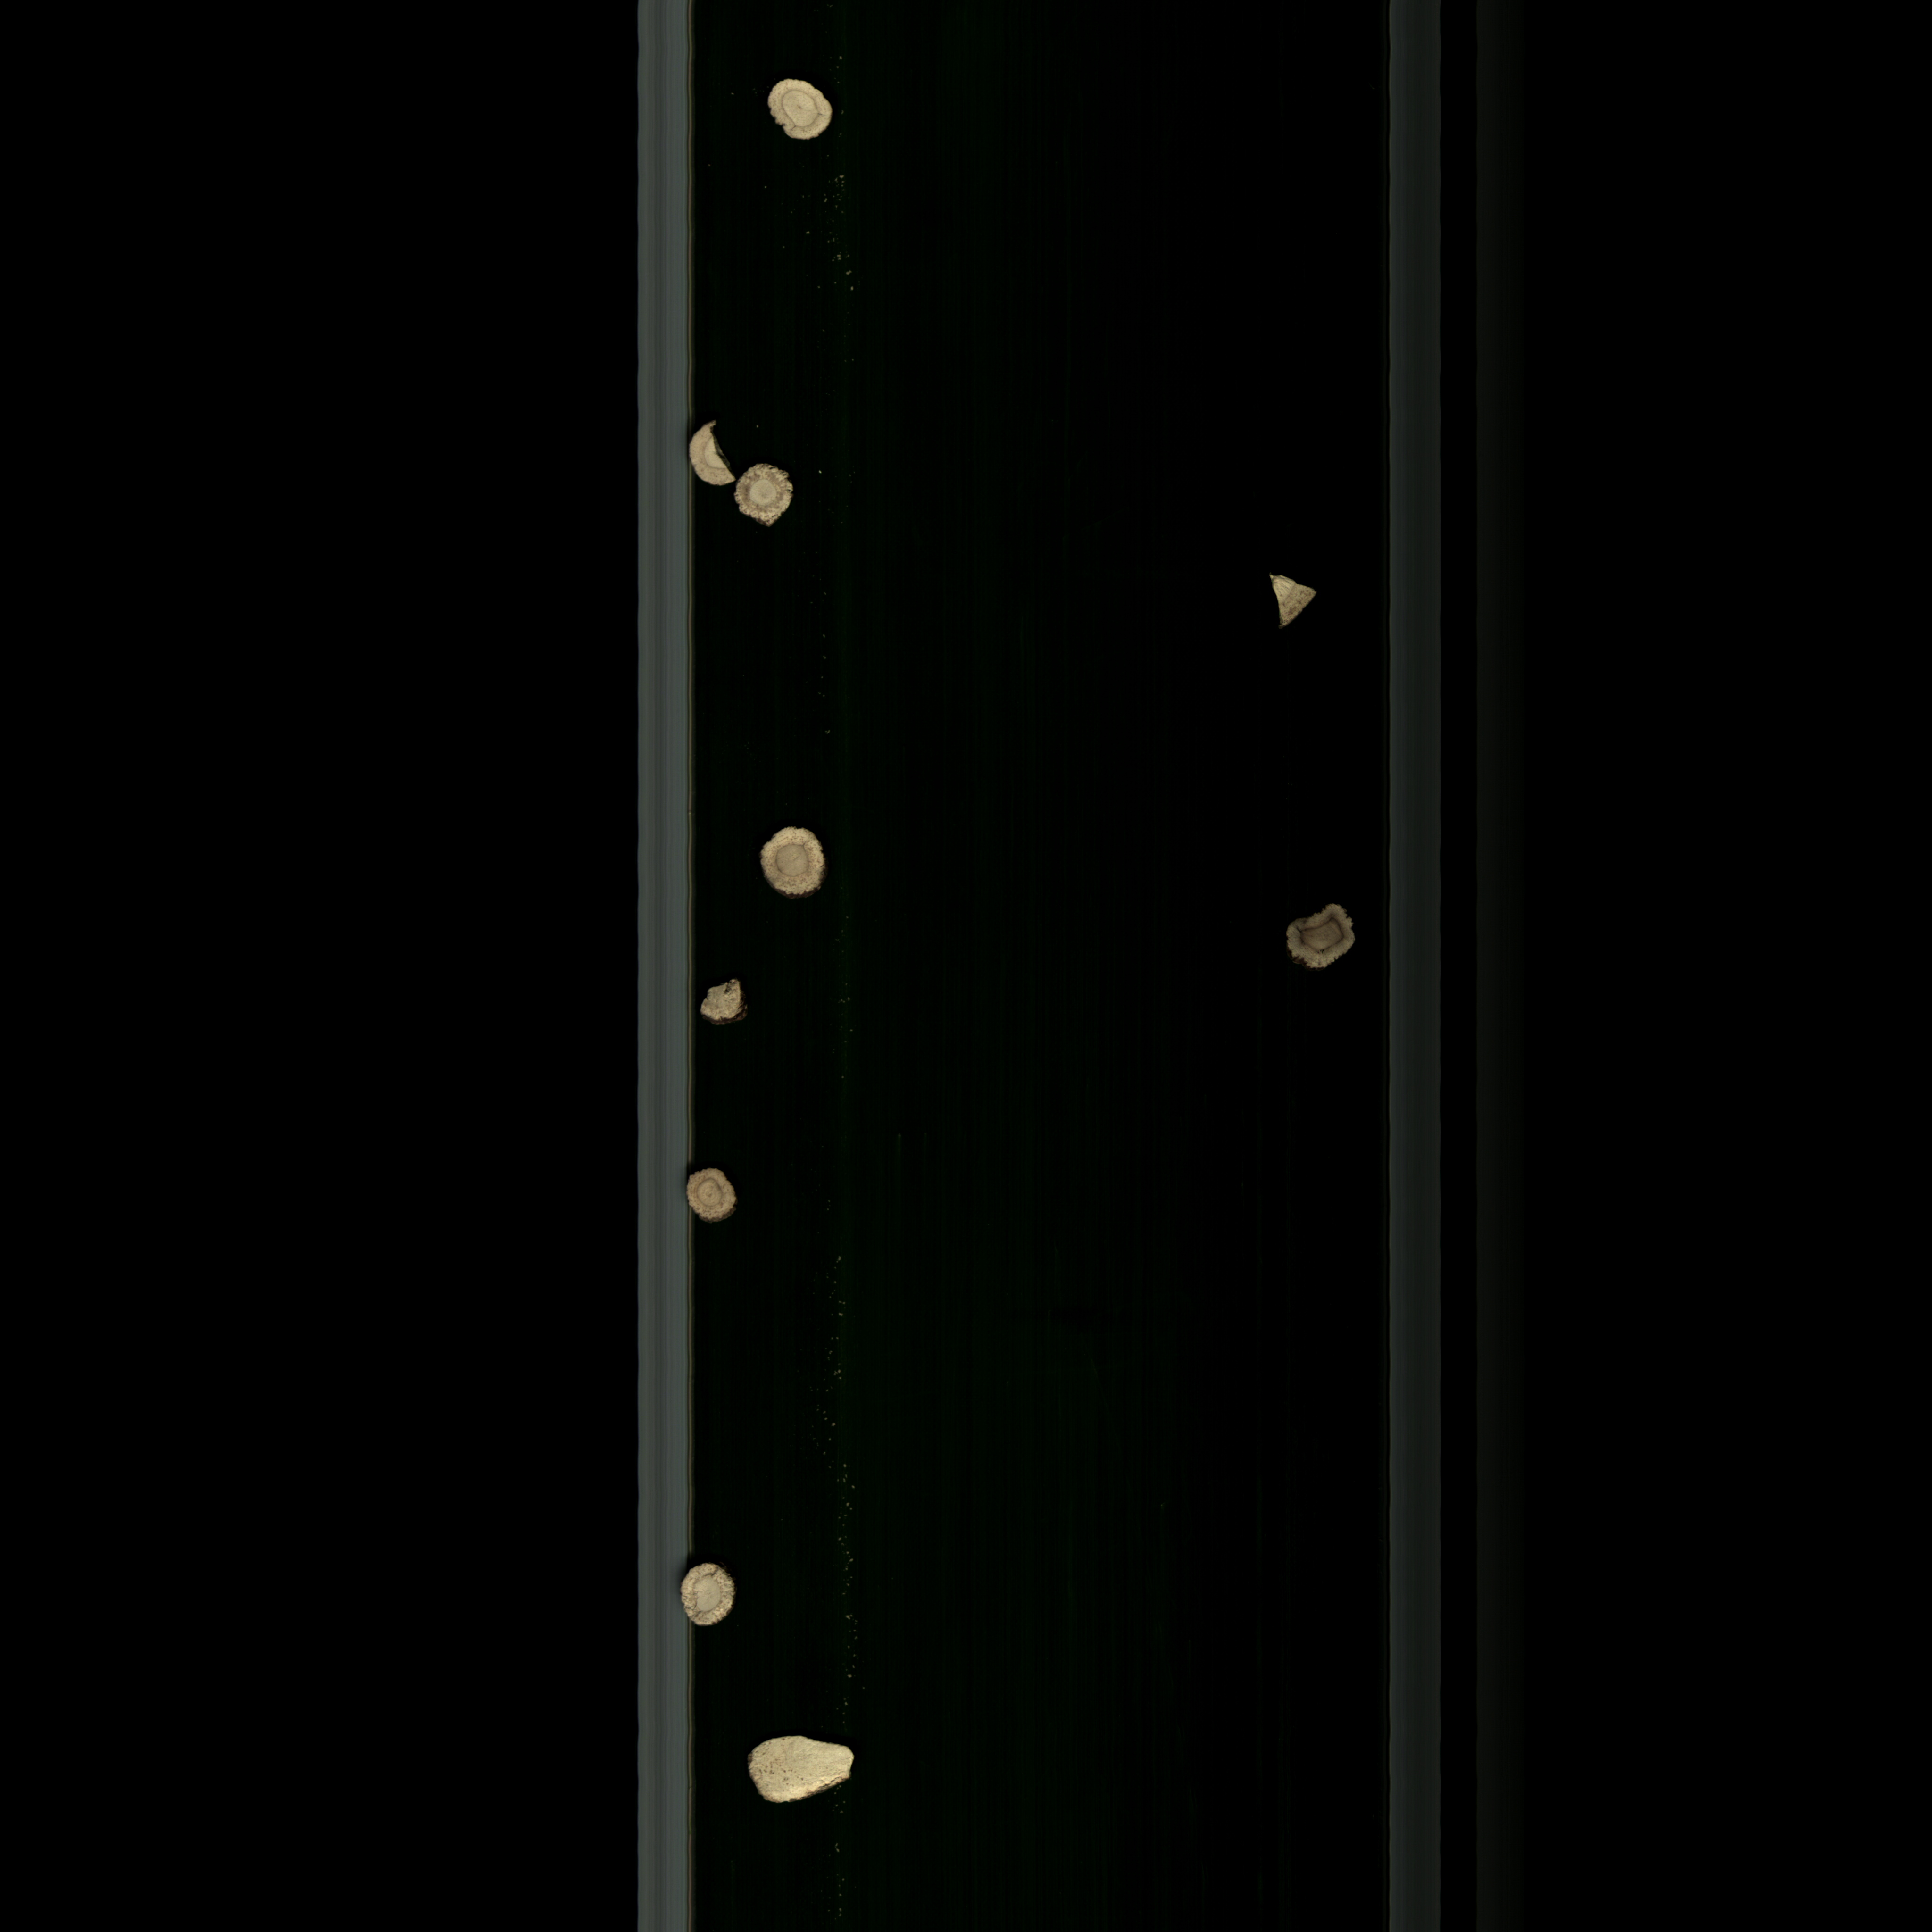distortion: (736, 1737, 881, 1810), (759, 74, 847, 145)
dreg: (695, 975, 766, 1028), (683, 419, 734, 492), (1267, 566, 1320, 633)
moldy: (1276, 897, 1362, 978), (731, 464, 809, 529)
